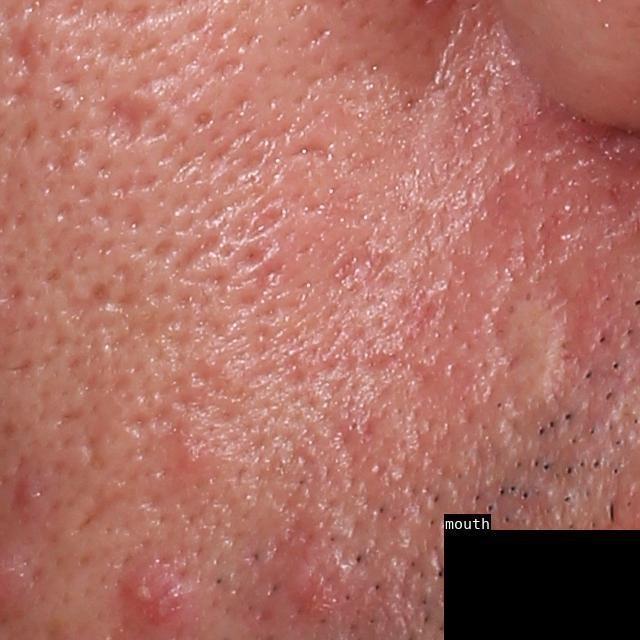atrophic_scar: (93, 90, 160, 152), (73, 480, 130, 539), (66, 278, 116, 330), (80, 430, 104, 471)
papule: (289, 572, 339, 620), (180, 440, 213, 475), (12, 474, 42, 508)
